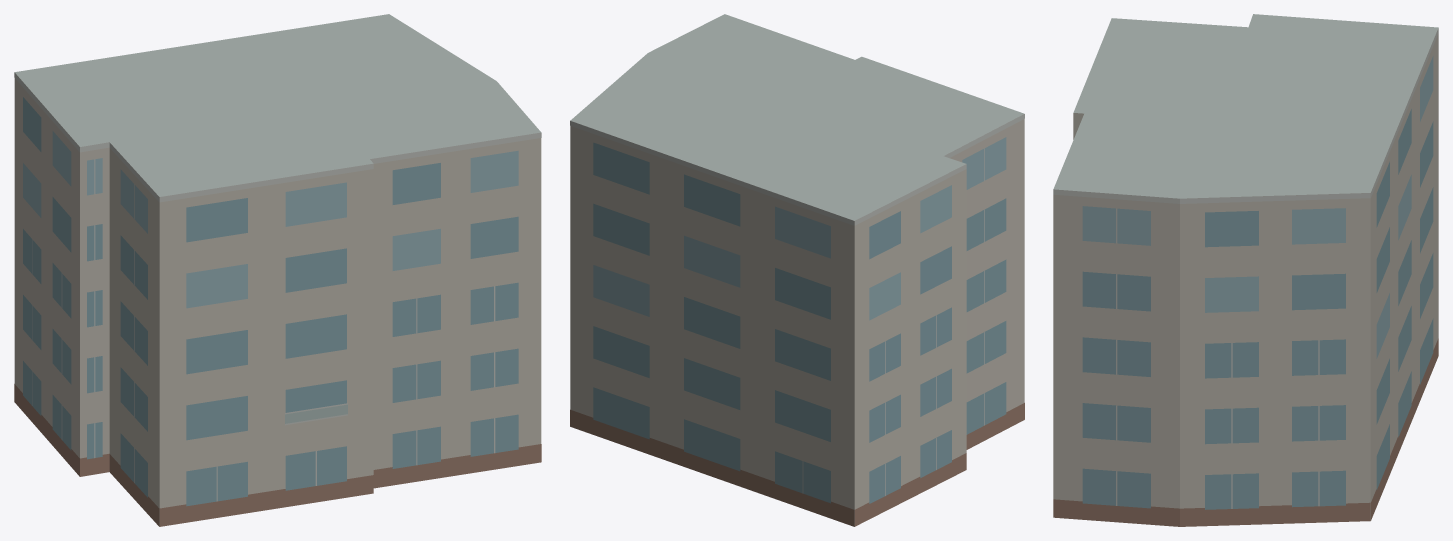
Rendered from survey-upis-32713561.glb.
3 renders of one model, left to right at view 1: azimuth 30°, elevation 25°; view 2: azimuth 150°, elevation 25°; view 3: azimuth 270°, elevation 25°, orthographic. The views are drawn at different scales.
Visible parts, largest first — view 1: survey-upis-32713561.tmp; view 2: survey-upis-32713561.tmp; view 3: survey-upis-32713561.tmp.
Boxes of the visible parts, x1,y1,x2,y2 form: survey-upis-32713561.tmp: (14, 14, 541, 526); survey-upis-32713561.tmp: (570, 14, 1024, 526); survey-upis-32713561.tmp: (1053, 14, 1438, 526).
Size of the model in its own units: 18.11 by 15 by 15.97.
